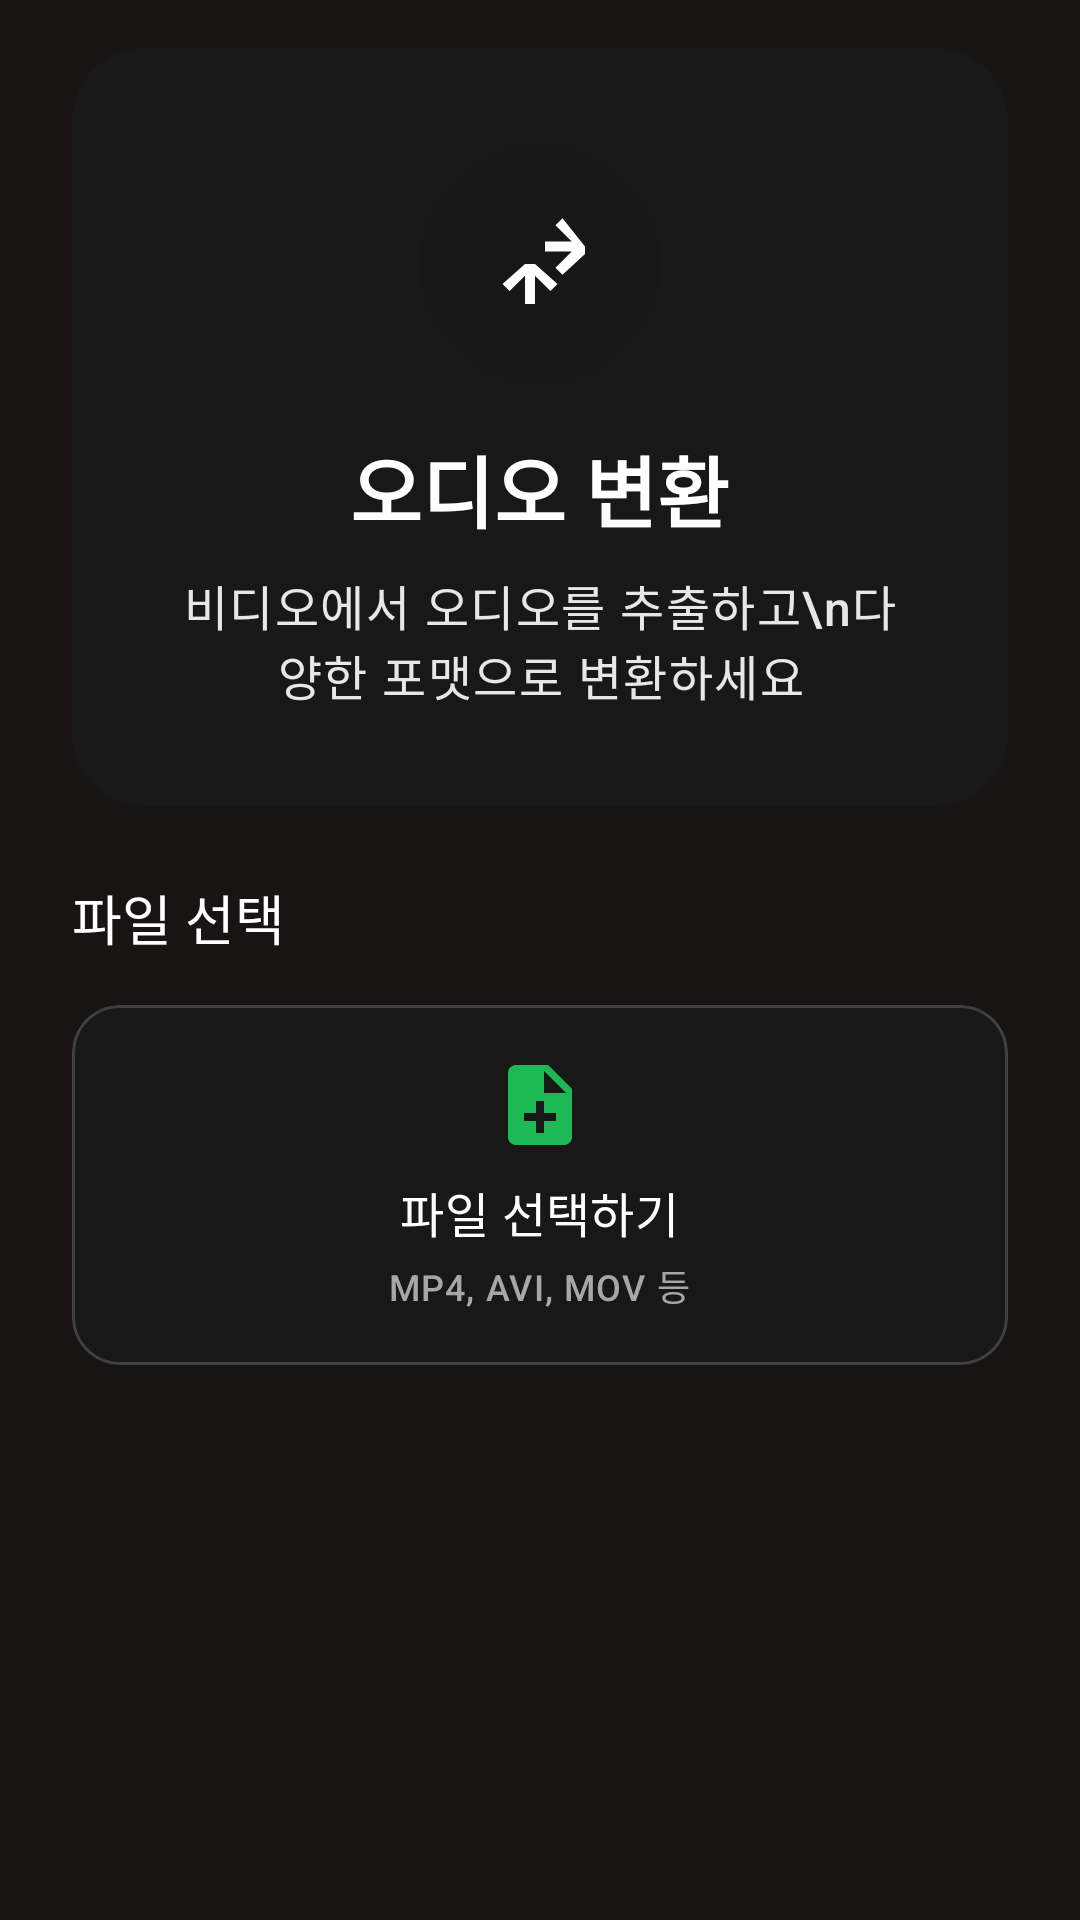

Point at icon controls on the screen. Image size 1080*1920, points as (x=x, y=y).
convert: (x=543, y=261)
file plus: (x=540, y=1105)
